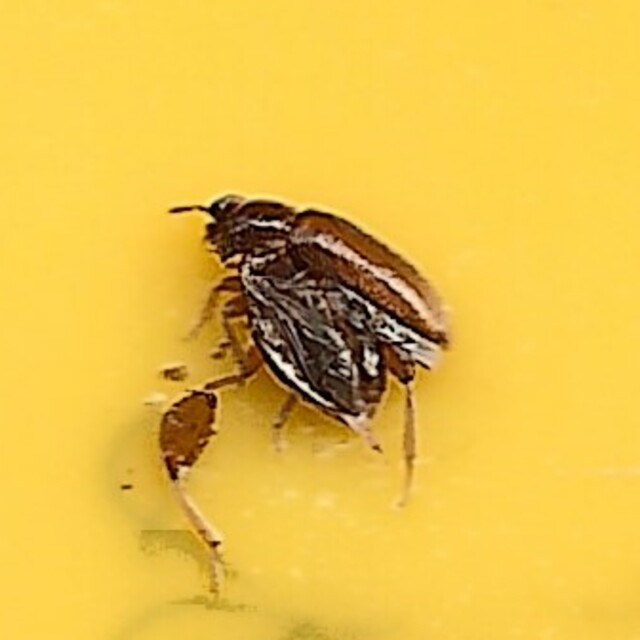Coleoptera: (190, 187, 450, 453)
